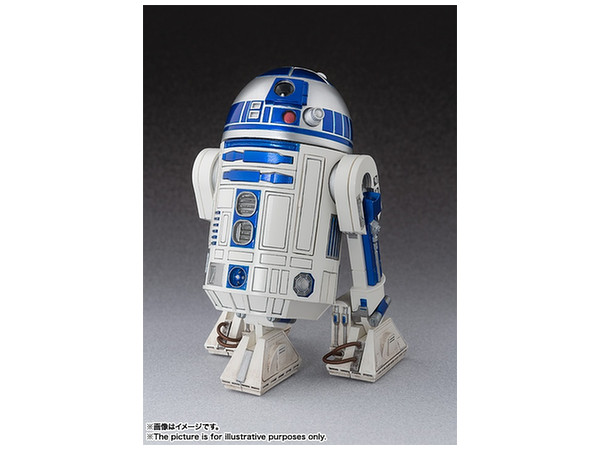r2d2: (195, 67, 414, 398)
